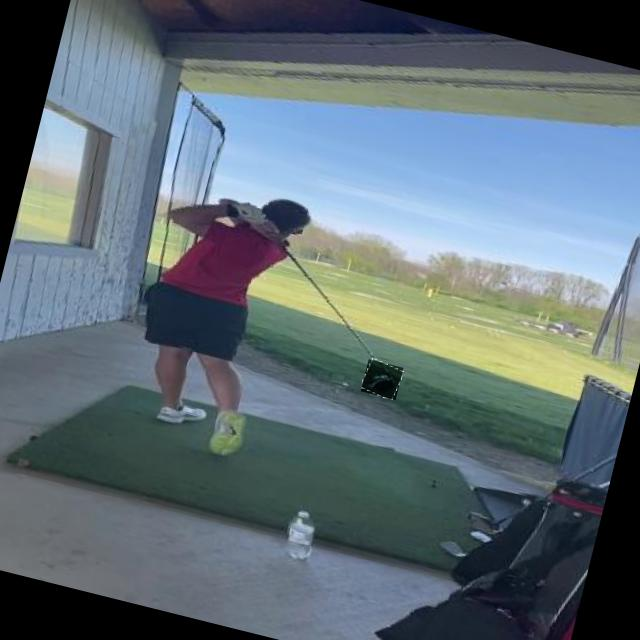club head: (360, 358, 403, 399)
